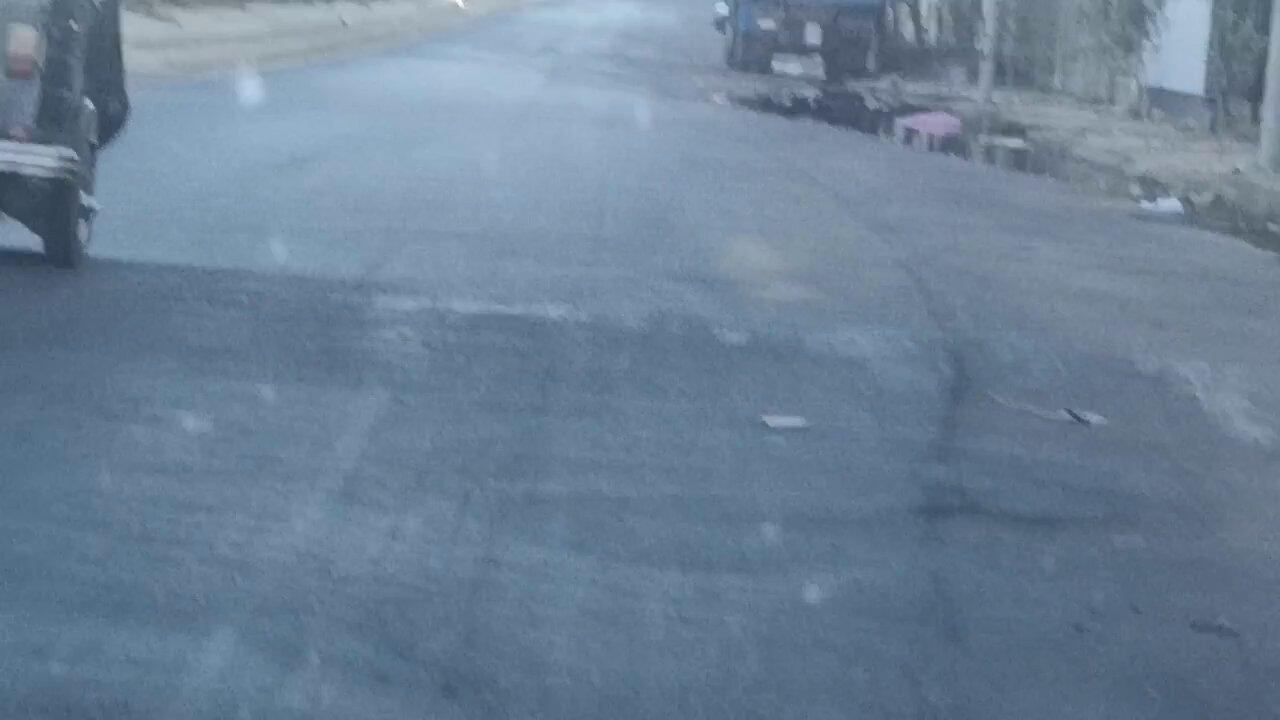Bump: (33, 266, 1280, 424)
